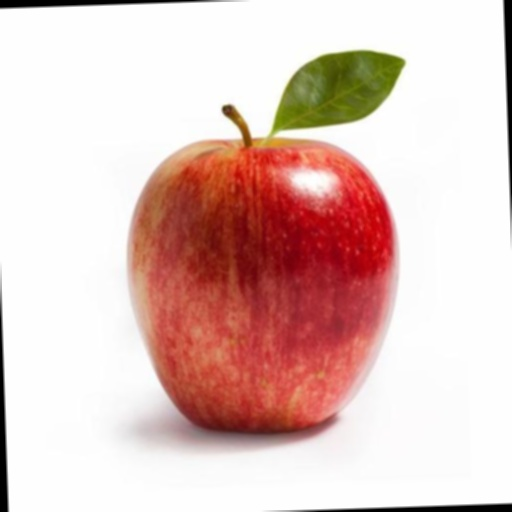fruit: (57, 127, 201, 446), (143, 56, 450, 194), (161, 42, 505, 157), (147, 49, 469, 171), (186, 41, 508, 139), (285, 88, 287, 91), (324, 77, 326, 80), (336, 109, 337, 111)
